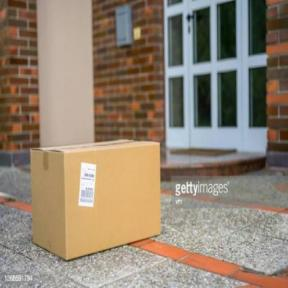box: (20, 138, 172, 272)
